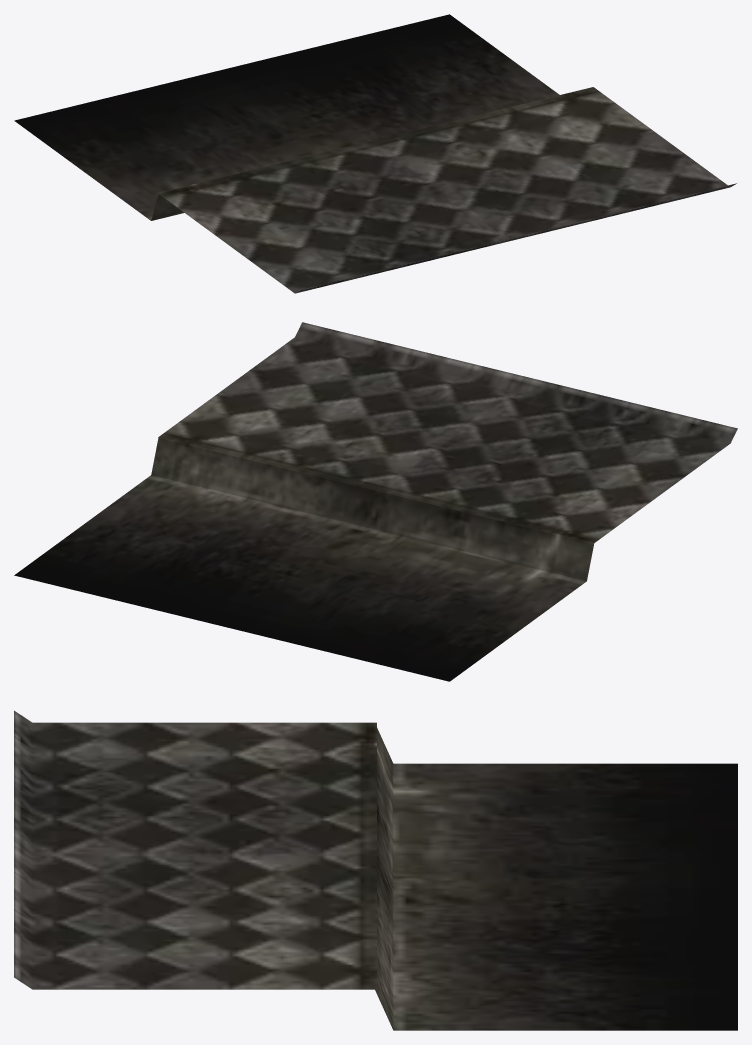
3 renders of one model, top to bottom at view 1: azimuth 30°, elevation 25°; view 2: azimuth 150°, elevation 25°; view 3: azimuth 270°, elevation 25°, orthographic. The views are drawn at different scales.
Visible parts, largest first — view 1: model_object33; view 2: model_object33; view 3: model_object33.
Part boxes in pixels (left/top/right/bottom): model_object33: left=14, top=14, right=736, bottom=293; model_object33: left=14, top=322, right=737, bottom=681; model_object33: left=14, top=710, right=737, bottom=1030.
Bounding box in the file's own units: 7.98 × 0.7397 × 9.14.
Materials: 1 (1 with a texture image).
